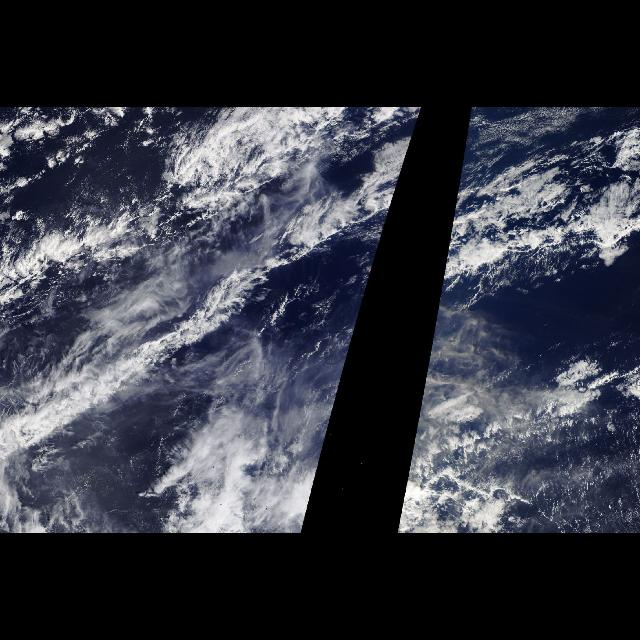Fish: (6, 108, 422, 350), (430, 108, 624, 350)
